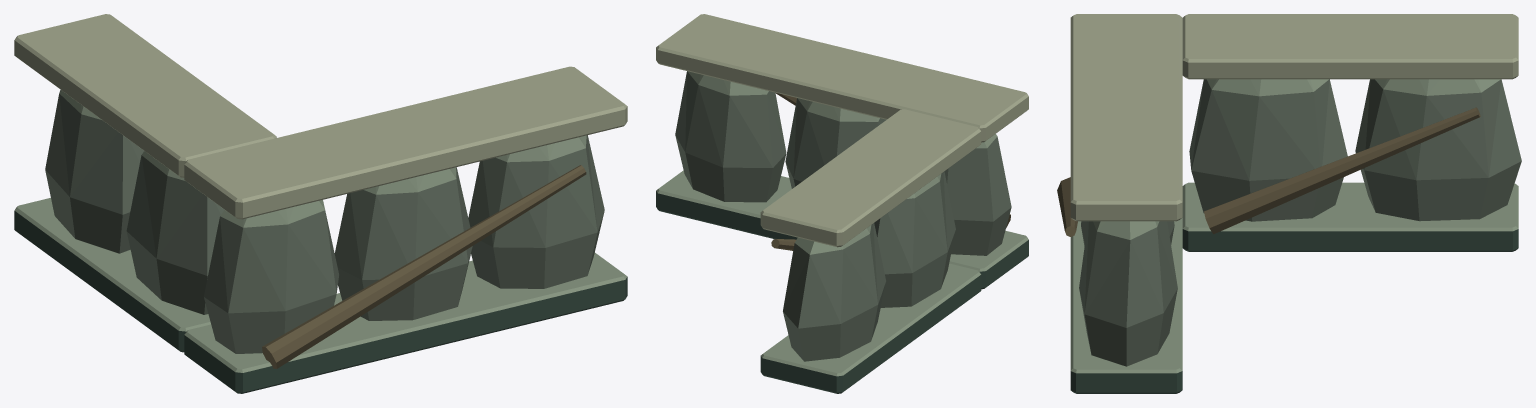
File: wall-corner.glb
The picture shows the model from 3 angles, left to right: view 1: azimuth 30°, elevation 25°; view 2: azimuth 150°, elevation 25°; view 3: azimuth 270°, elevation 25°; orthographic projection. The views are drawn at different scales.
Visible parts, largest first — view 1: wall-corner__body; view 2: wall-corner__body; view 3: wall-corner__body.
Boxes of the visible parts, box(x1,y1,x2,y2) form: wall-corner__body: box(14, 14, 627, 393); wall-corner__body: box(656, 14, 1028, 393); wall-corner__body: box(1057, 14, 1521, 393).
Size of the model in its own units: 2.01 by 0.95 by 2.07.
